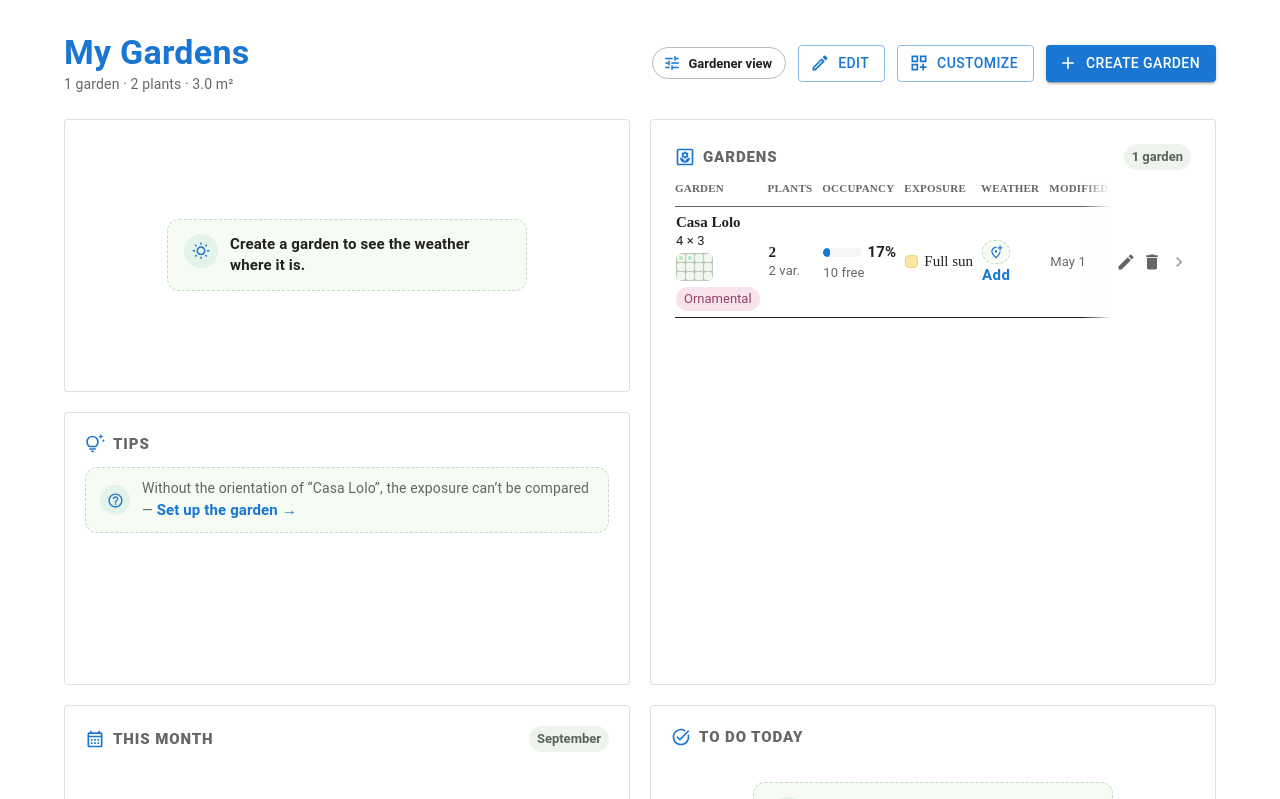
Gardens widget delete flow (SMA-18 lot 1, moved by SMA-336) › opens the type-the-name dialog from the card, naming the distinct plants
Check: the link "Casa Lolo" is shown, box [676,214,741,230]
Click the button named "Delete Casa Lolo". click: (1152,262)
box: [1139,249,1165,275]
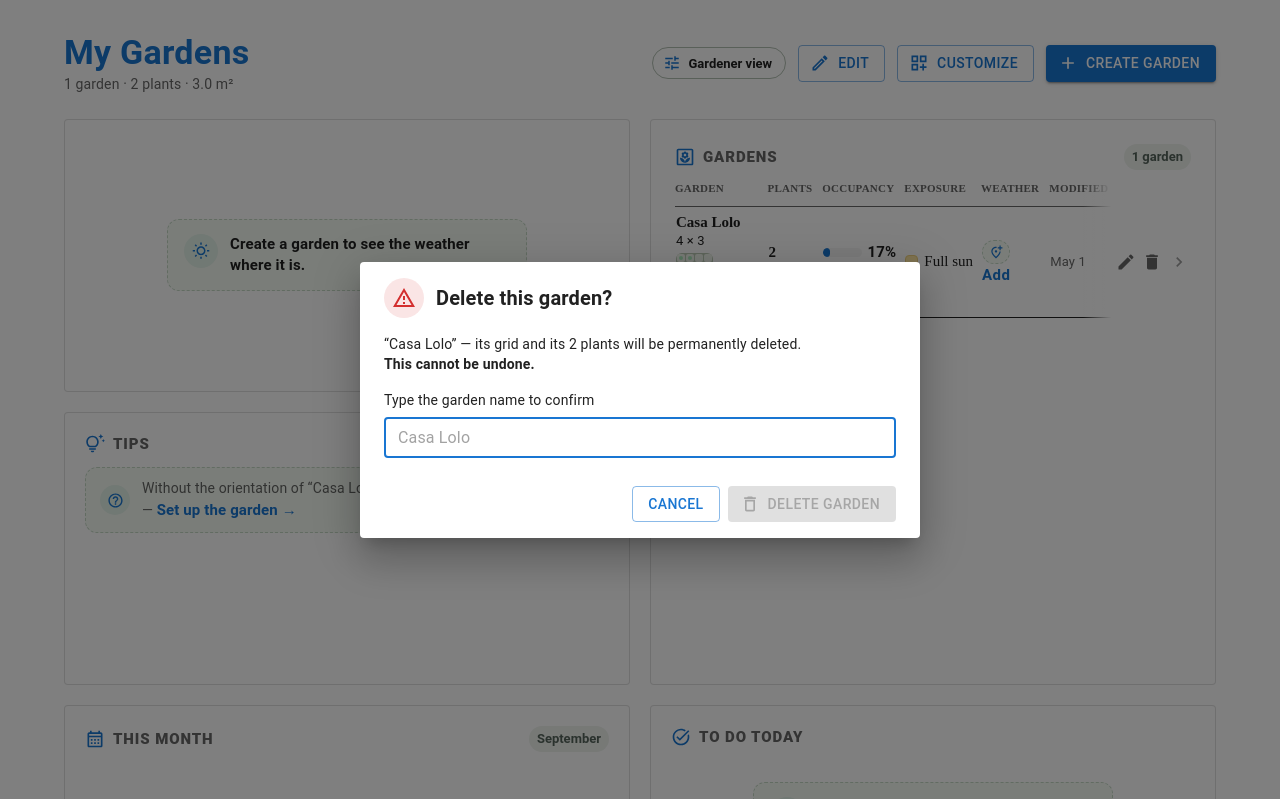
Check: the text "“Casa Lolo” — its grid and its 2 plants will be permanently deleted." is shown, box [384,336,801,352]
Check: the text "This cannot be undone." is shown, box [384,356,535,372]
Check: the button "Delete garden" is disabled, box [728,486,896,522]
